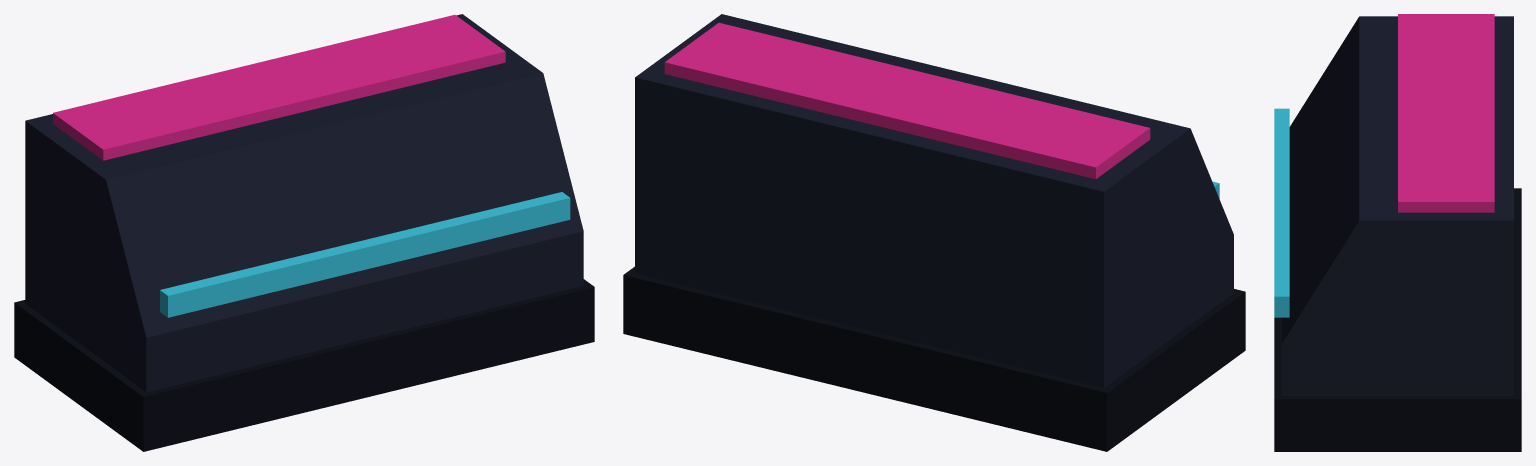
The model's file is barrierB.glb.
The picture shows the model from 3 angles, left to right: view 1: azimuth 30°, elevation 25°; view 2: azimuth 150°, elevation 25°; view 3: azimuth 270°, elevation 25°; orthographic projection. The views are drawn at different scales.
Visible parts, largest first — view 1: nightCity-barrierB; view 2: nightCity-barrierB; view 3: nightCity-barrierB.
Part boxes in pixels (x1,y1,x2,y2): nightCity-barrierB: (14,14,594,451); nightCity-barrierB: (623,14,1245,451); nightCity-barrierB: (1274,14,1521,451).
Bounding box in the file's own units: 0.258 × 0.136 × 0.128.
